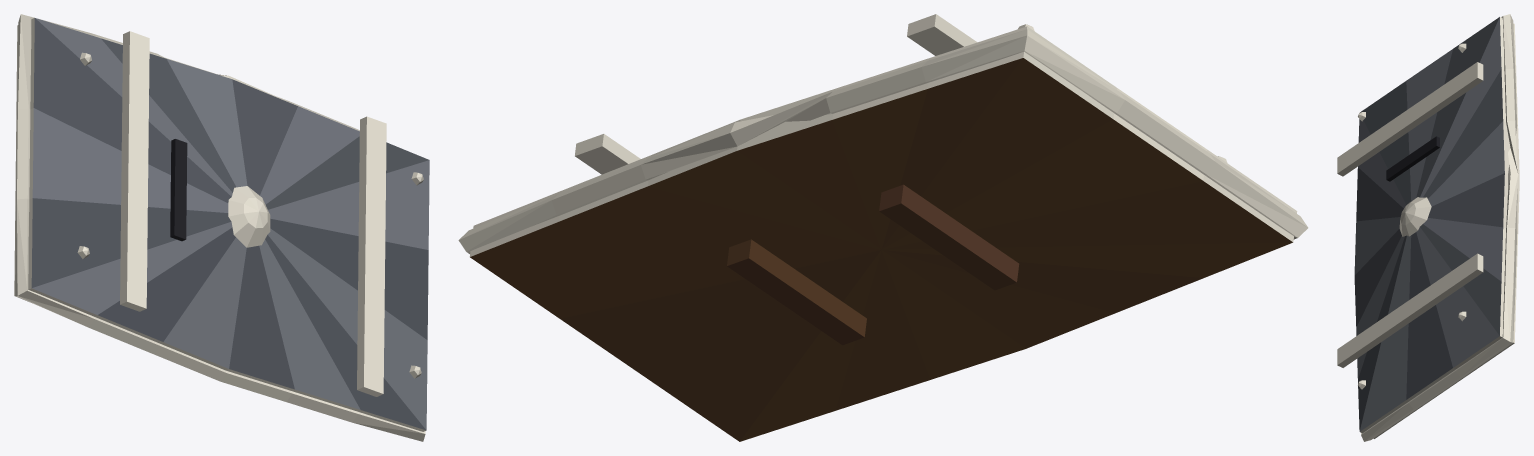
File: armor_shield_tower.glb
3 views of the same model, side by side, from view 1: azimuth 30°, elevation 25°; view 2: azimuth 150°, elevation 25°; view 3: azimuth 270°, elevation 25° (orthographic). The views are drawn at different scales.
Parts seen in each view (by area): view 1: armor_shield_tower; view 2: armor_shield_tower; view 3: armor_shield_tower.
Boxes of the visible parts, bbox=[...] form: armor_shield_tower: bbox=[14, 14, 429, 441]; armor_shield_tower: bbox=[458, 14, 1308, 441]; armor_shield_tower: bbox=[1337, 14, 1519, 441].
Bounding box in the file's own units: 1.11 × 0.9007 × 0.4686.
